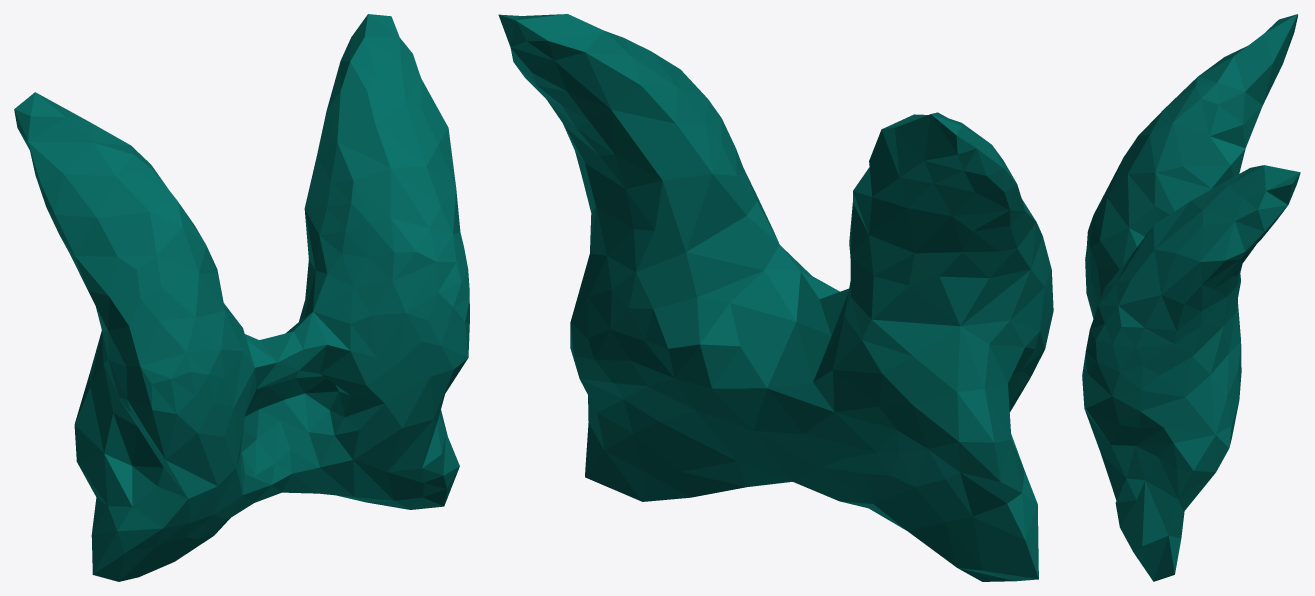
File: 113-BST-bed nucleus of the stria terminalis central division-('0.0000', '0.4980', '0.4588').obj
The picture shows the model from 3 angles, left to right: view 1: azimuth 30°, elevation 25°; view 2: azimuth 150°, elevation 25°; view 3: azimuth 270°, elevation 25°; orthographic projection. The views are drawn at different scales.
Size of the model in its own units: 53.37 by 57.32 by 27.36.
